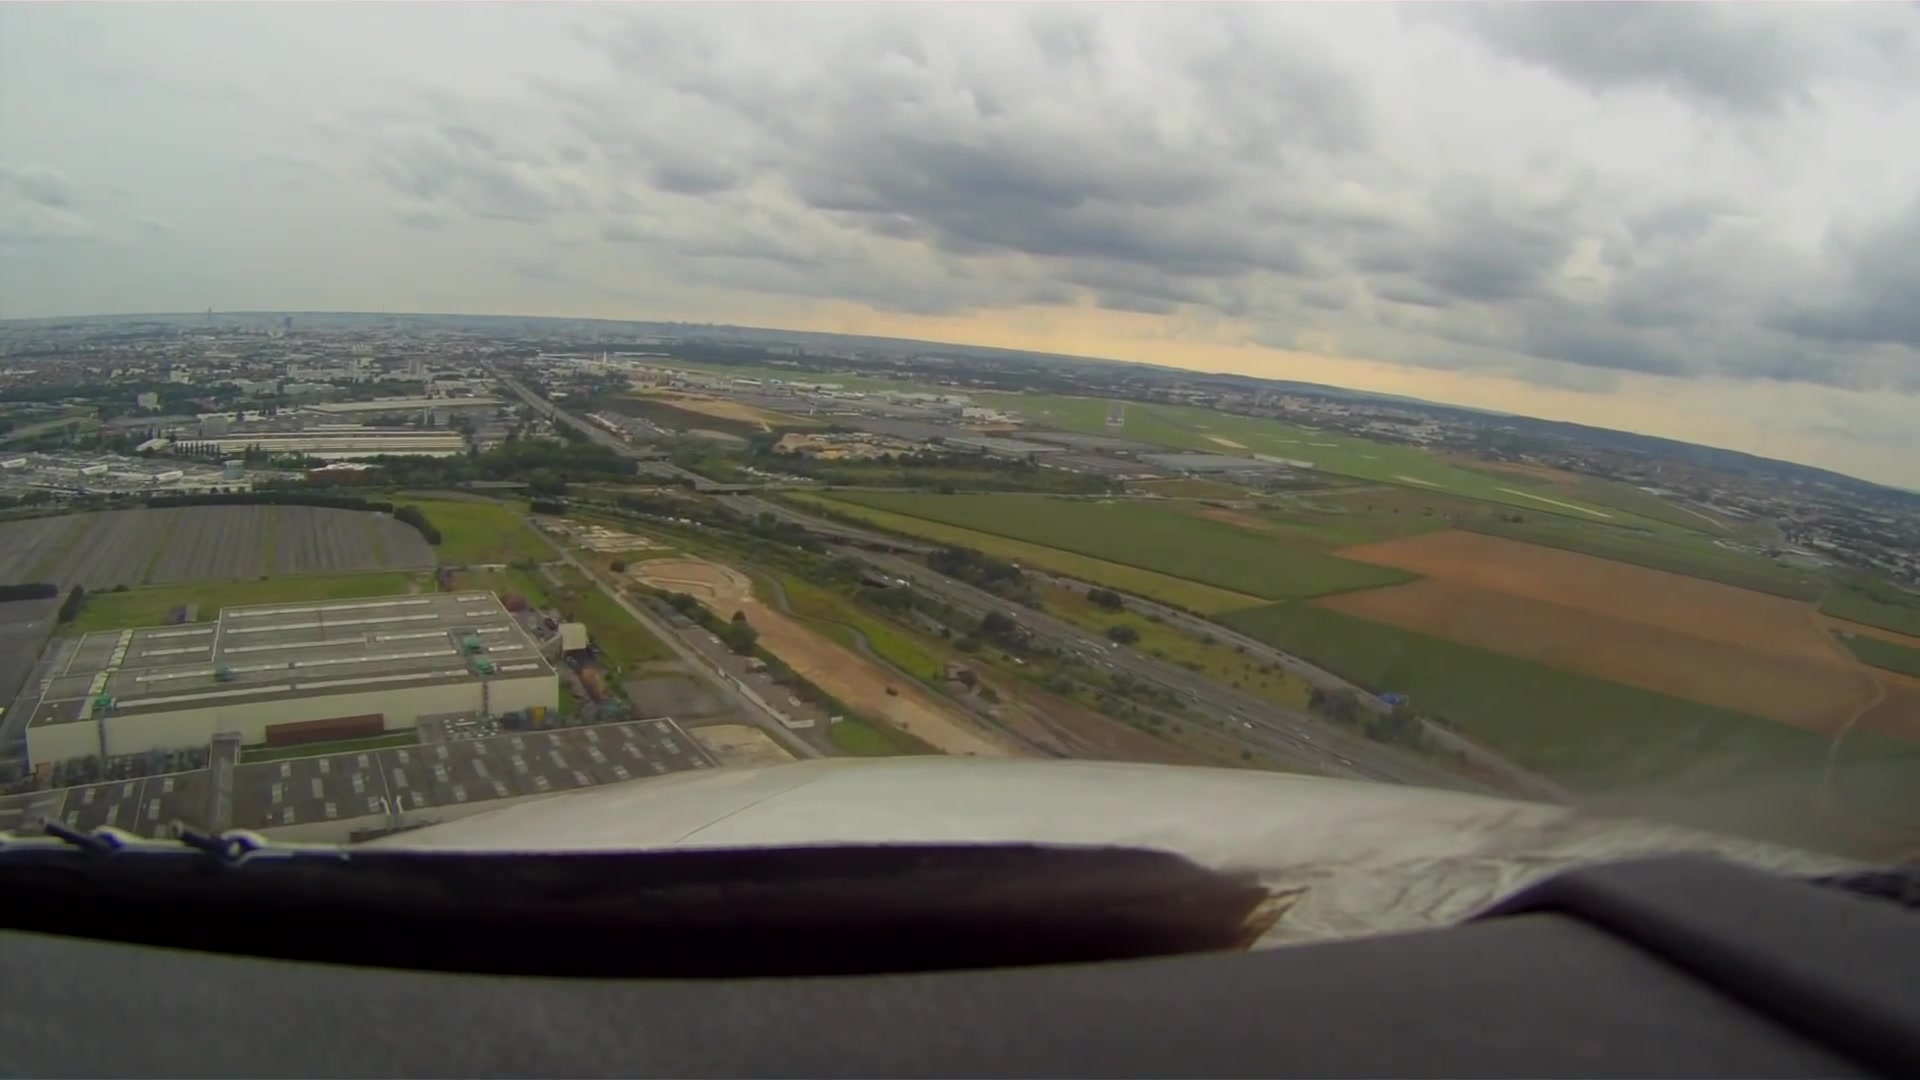runway: (1102, 397, 1125, 429)
